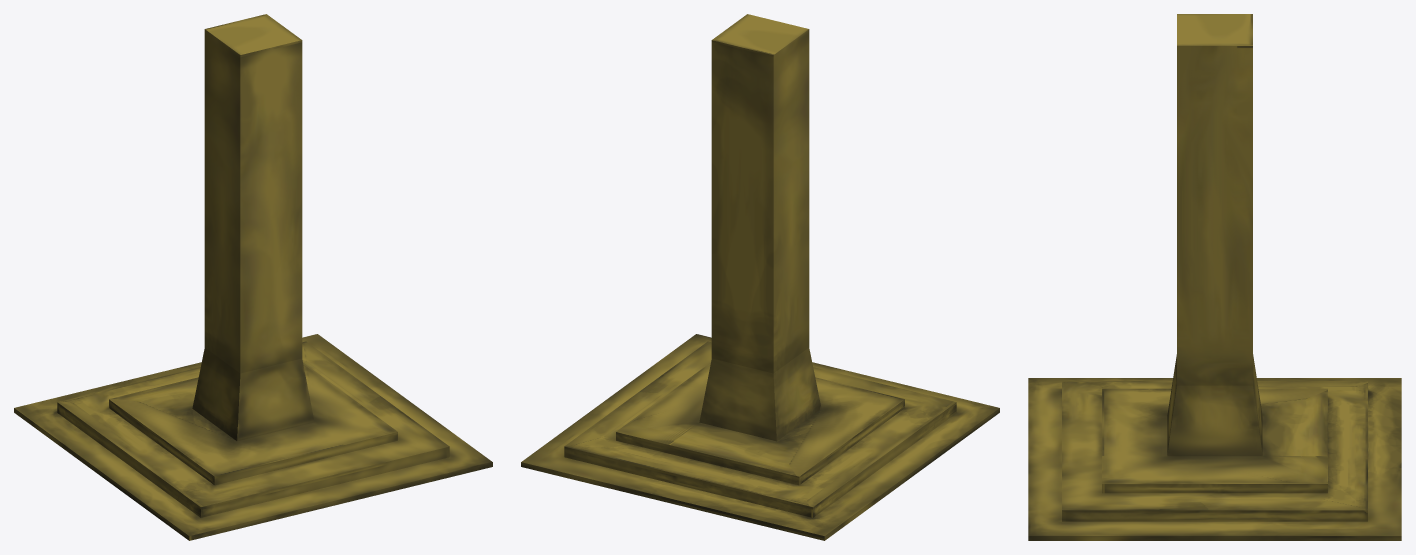
File: f_pole.fbx
3 views of the same model, side by side, from view 1: azimuth 30°, elevation 25°; view 2: azimuth 150°, elevation 25°; view 3: azimuth 270°, elevation 25° (orthographic). The views are drawn at different scales.
Parts seen in each view (by area): view 1: Cube.003; view 2: Cube.003; view 3: Cube.003.
Part boxes in pixels (left/top/right/bottom): Cube.003: left=14, top=14, right=492, bottom=540; Cube.003: left=521, top=14, right=999, bottom=540; Cube.003: left=1028, top=14, right=1401, bottom=540.
Size of the model in its own units: 543 by 693 by 543.
Materials: 1 (1 with a texture image).
